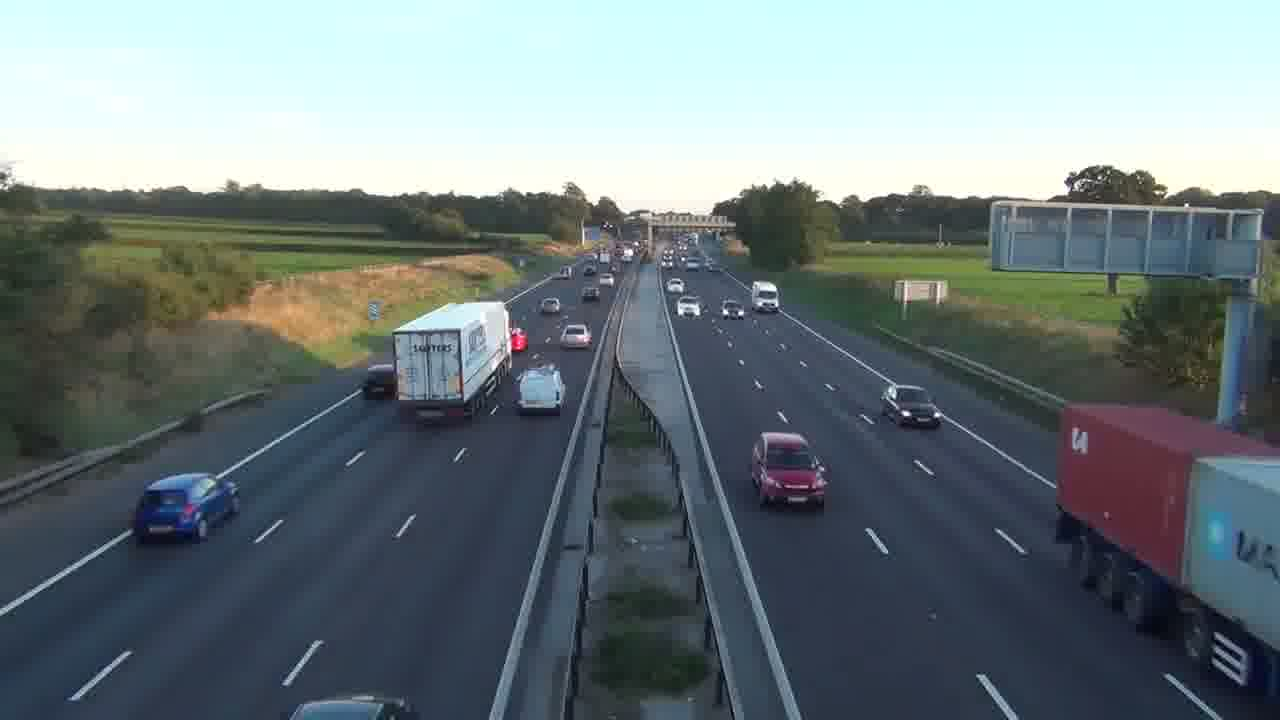car: (131, 472, 238, 545), (750, 431, 831, 510), (880, 384, 942, 429), (515, 364, 566, 416), (558, 321, 593, 350), (540, 296, 562, 314)
truck: (1055, 402, 1279, 696), (392, 299, 511, 422)
